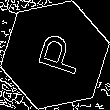P_W: (26, 29, 84, 81)
